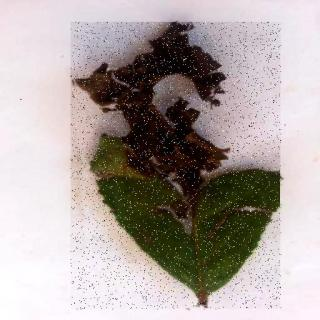Brown Blight: (72, 23, 283, 311)
